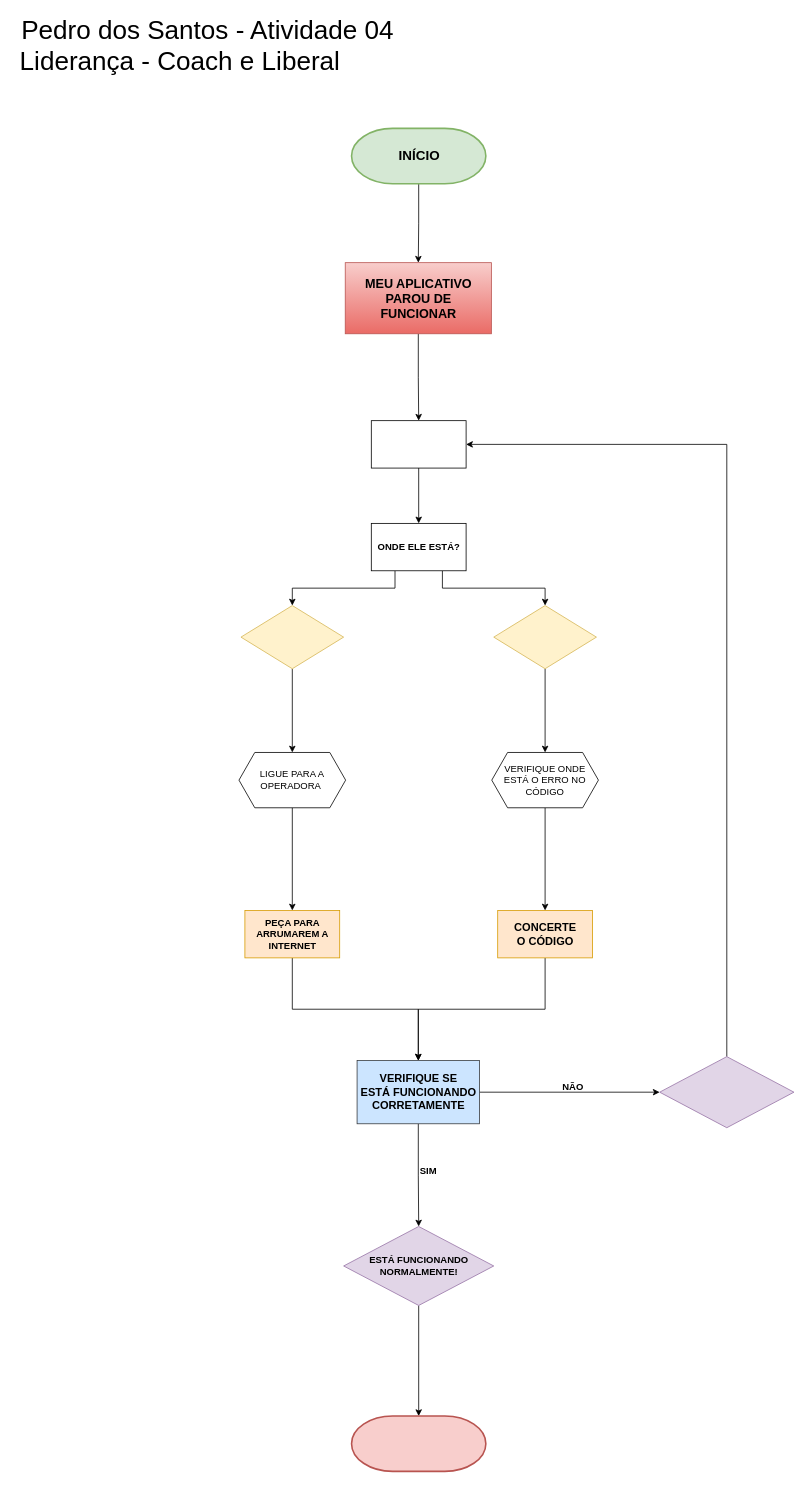
Image size: 807x1485. Some labels were removed from this diagram. Here are the shapes that lost their labels. From the top down, the centre of each, then its label:
pixel 418 444: ANALISAR ONDE ESTÁ O PROBLEMA!
pixel 292 637: NA INTERNET
pixel 544 637: NA PROGRAMAÇÃO
pixel 726 1092: NÃO ESTÁ FUNCIONANDO!
pixel 418 1443: FIM
